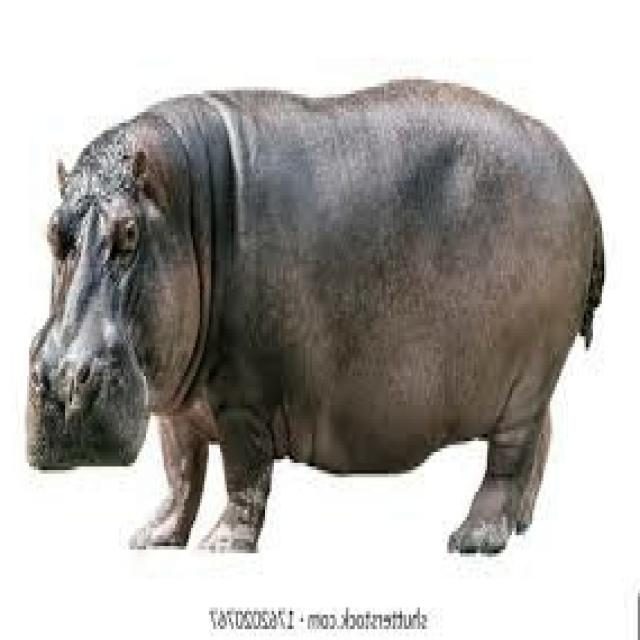hippopotamus: (31, 80, 602, 550)
